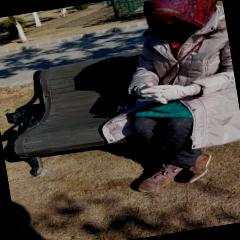gloved: (144, 81, 196, 106), (138, 82, 164, 107)
